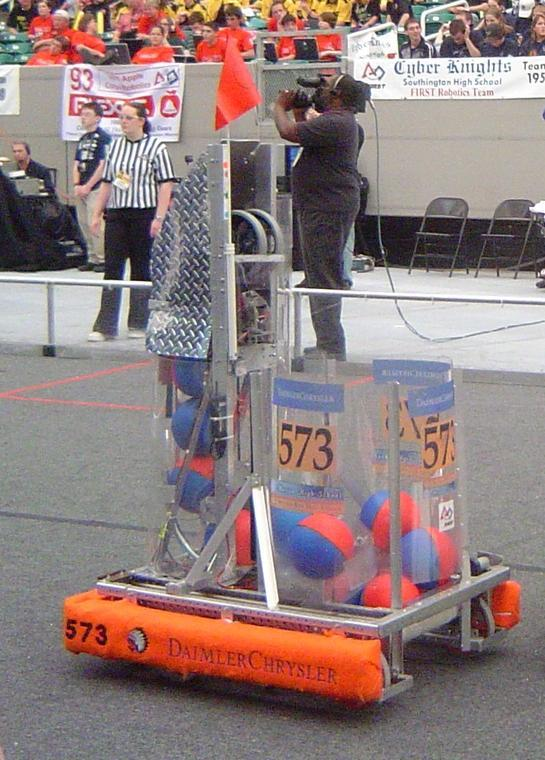robot: (51, 126, 528, 727)
